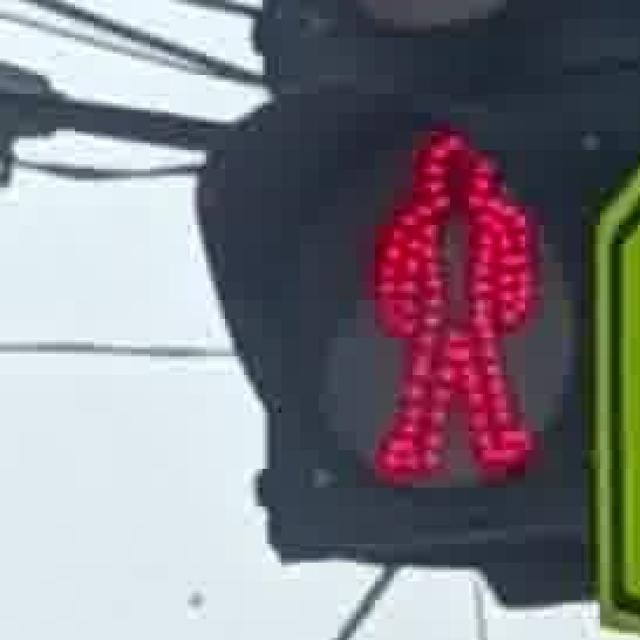red-crossing: (342, 103, 549, 497)
